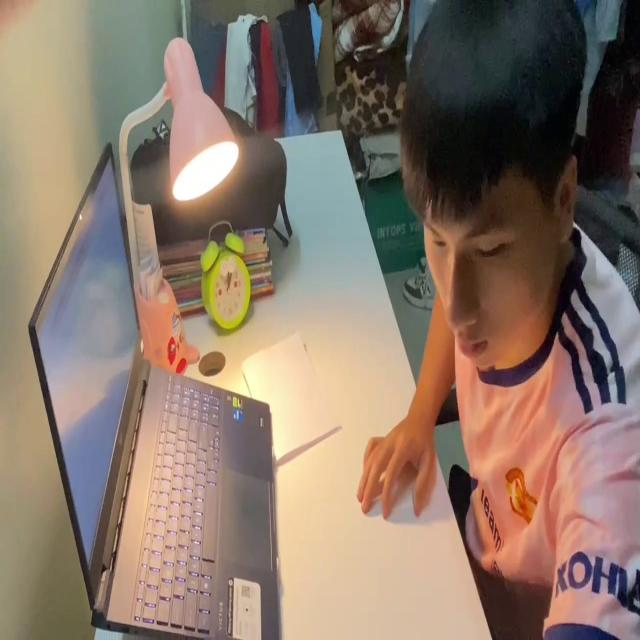book: (238, 324, 342, 468)
laptop: (22, 137, 282, 640)
student: (355, 0, 640, 640)
